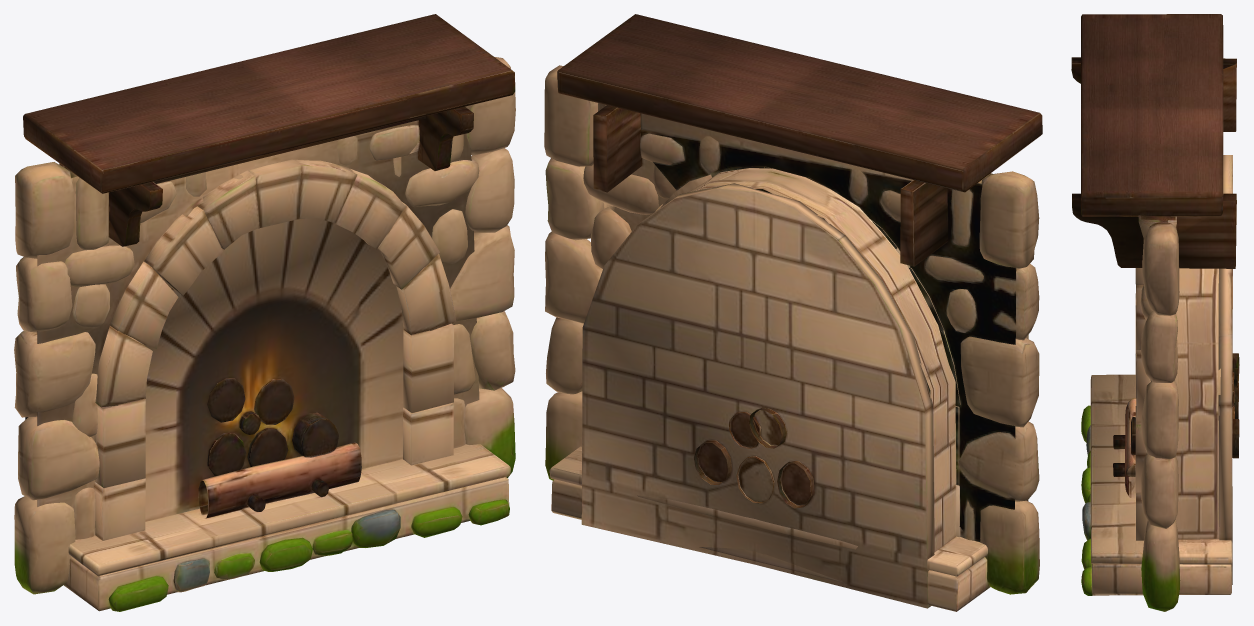
Rendered from fireplace.glb.
3 renders of one model, left to right at view 1: azimuth 30°, elevation 25°; view 2: azimuth 150°, elevation 25°; view 3: azimuth 270°, elevation 25°, orthographic. The views are drawn at different scales.
Bounding box in the file's own units: 1.8 × 1.6 × 0.6.
Materials: 1 (1 with a texture image).
